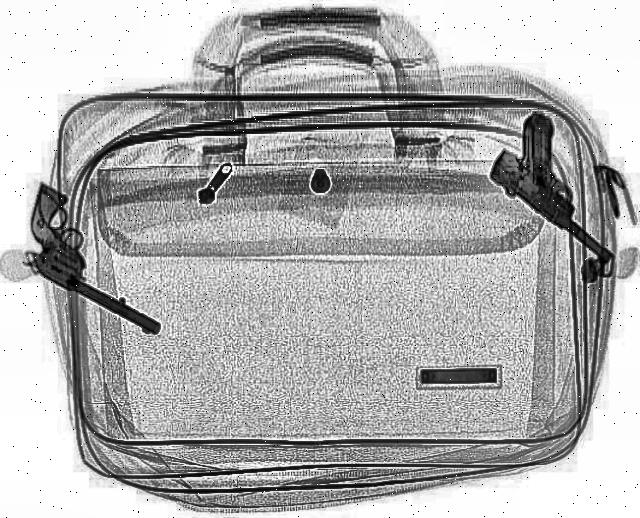Gun: (1, 196, 209, 334), (468, 109, 640, 237)
